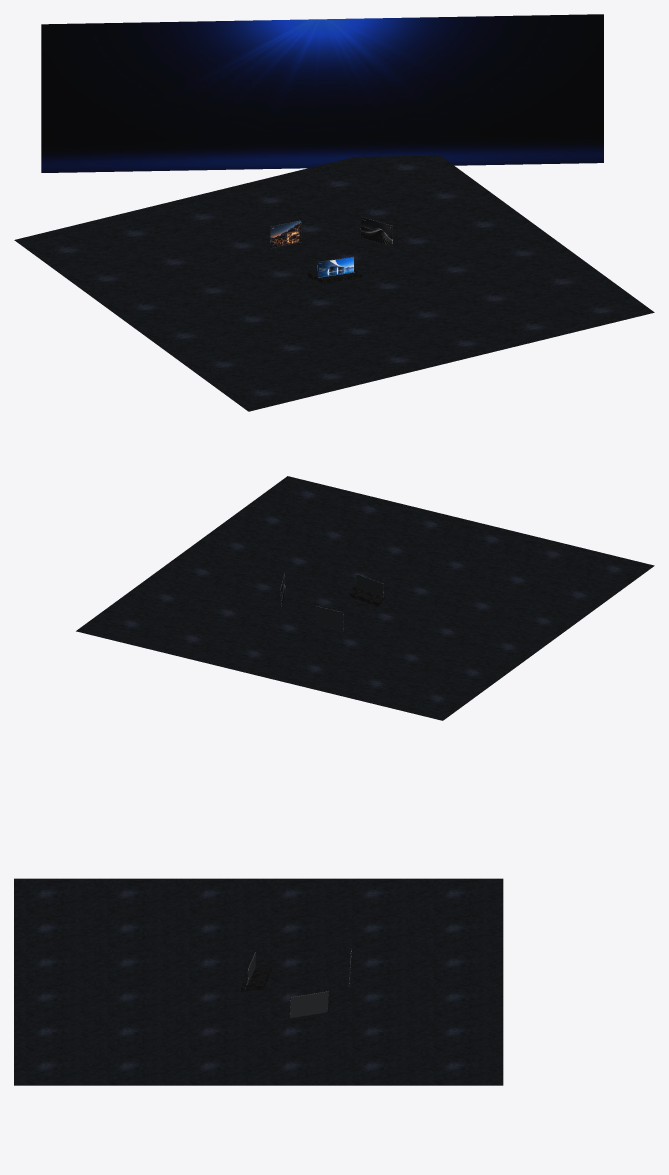
The model's file is beyond_the_screen_refined.glb.
3 renders of one model, top to bottom at view 1: azimuth 30°, elevation 25°; view 2: azimuth 150°, elevation 25°; view 3: azimuth 270°, elevation 25°, orthographic. The views are drawn at different scales.
Visible parts, largest first — view 1: Ground_WetConcrete, Sky_Card, Screen_TERRA_Display, Screen_VECTA_Display; view 2: Ground_WetConcrete, Screen_TERRA_Bezel; view 3: Ground_WetConcrete, Screen_VECTA_Bezel.
Part boxes in pixels (left/top/right/bottom): Ground_WetConcrete: left=14, top=155, right=654, bottom=411; Sky_Card: left=41, top=14, right=603, bottom=172; Screen_TERRA_Display: left=270, top=221, right=301, bottom=247; Screen_VECTA_Display: left=361, top=217, right=392, bottom=245; Ground_WetConcrete: left=76, top=476, right=654, bottom=720; Screen_TERRA_Bezel: left=316, top=606, right=344, bottom=630; Ground_WetConcrete: left=14, top=878, right=503, bottom=1085; Screen_VECTA_Bezel: left=289, top=991, right=328, bottom=1018.
Size of what is drawn, in the model's own units: 52.38 by 14 by 52.38.
Materials: 9 (5 with a texture image).
